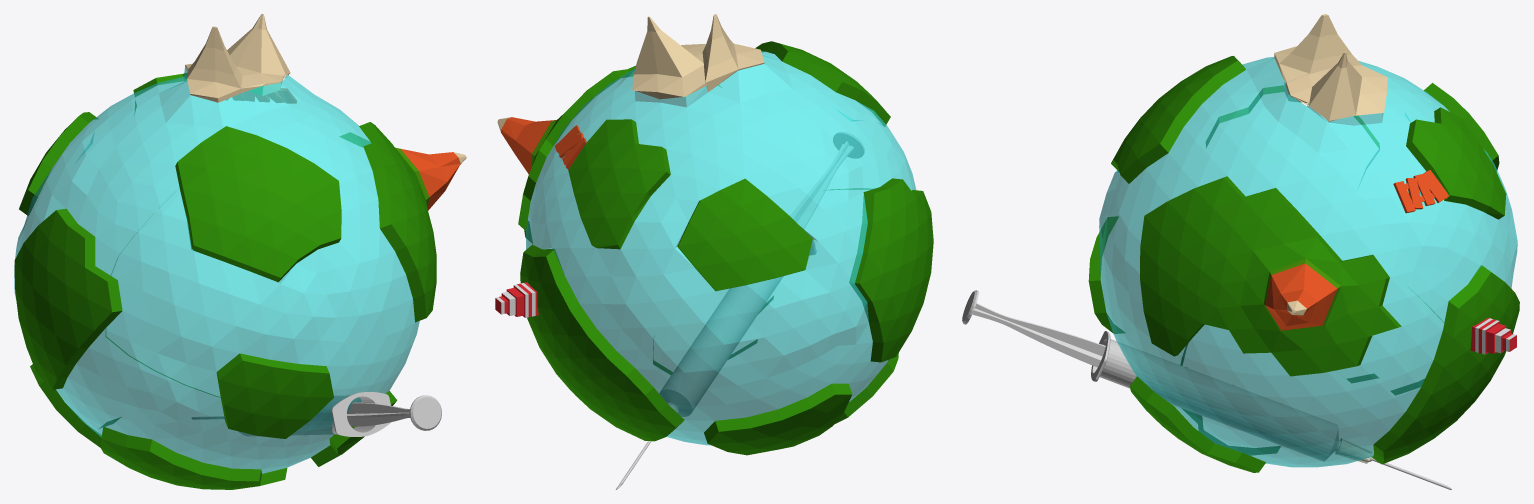
File: world_01.glb
3 views of the same model, side by side, from view 1: azimuth 30°, elevation 25°; view 2: azimuth 150°, elevation 25°; view 3: azimuth 270°, elevation 25° (orthographic). The views are drawn at different scales.
Visible parts, largest first — view 1: World, 01_Syringe; view 2: World, 01_Syringe; view 3: World, 01_Syringe.
Part boxes in pixels (left/top/right/bottom): World: left=14, top=14, right=466, bottom=489; 01_Syringe: left=192, top=392, right=441, bottom=436; World: left=495, top=14, right=933, bottom=455; 01_Syringe: left=615, top=132, right=864, bottom=489; World: left=1088, top=14, right=1519, bottom=472; 01_Syringe: left=962, top=290, right=1451, bottom=489.
Bounding box in the file's own units: 2.41 × 2.43 × 2.69.
